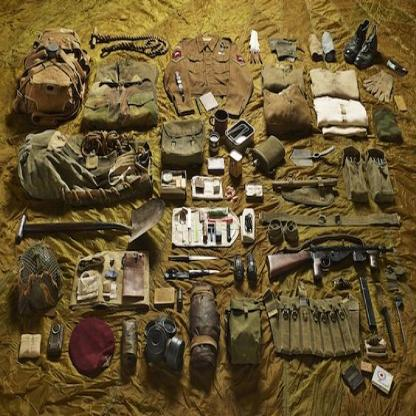Grenade: (245, 253, 259, 284), (233, 254, 245, 283)
Gun: (266, 234, 394, 284)
Knife: (167, 248, 220, 265)
